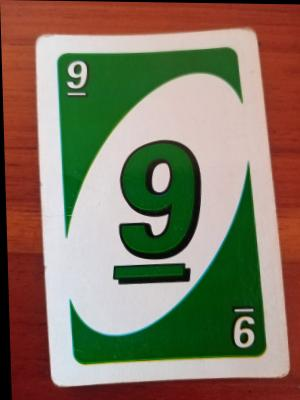green: (67, 46, 258, 357)
num_9: (220, 300, 262, 358), (56, 56, 92, 102)
